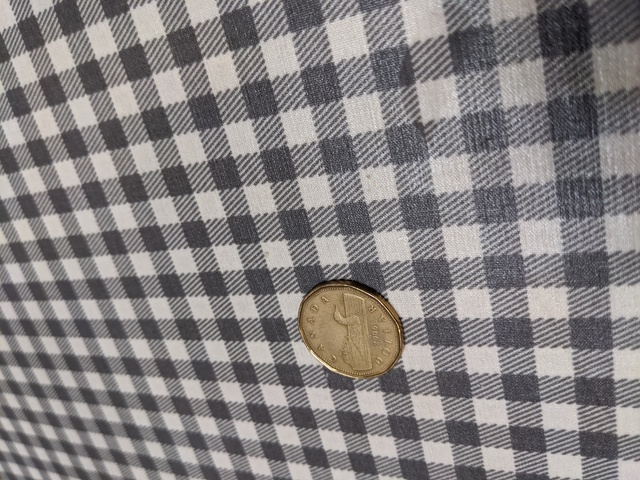loonie: (292, 273, 417, 391)
